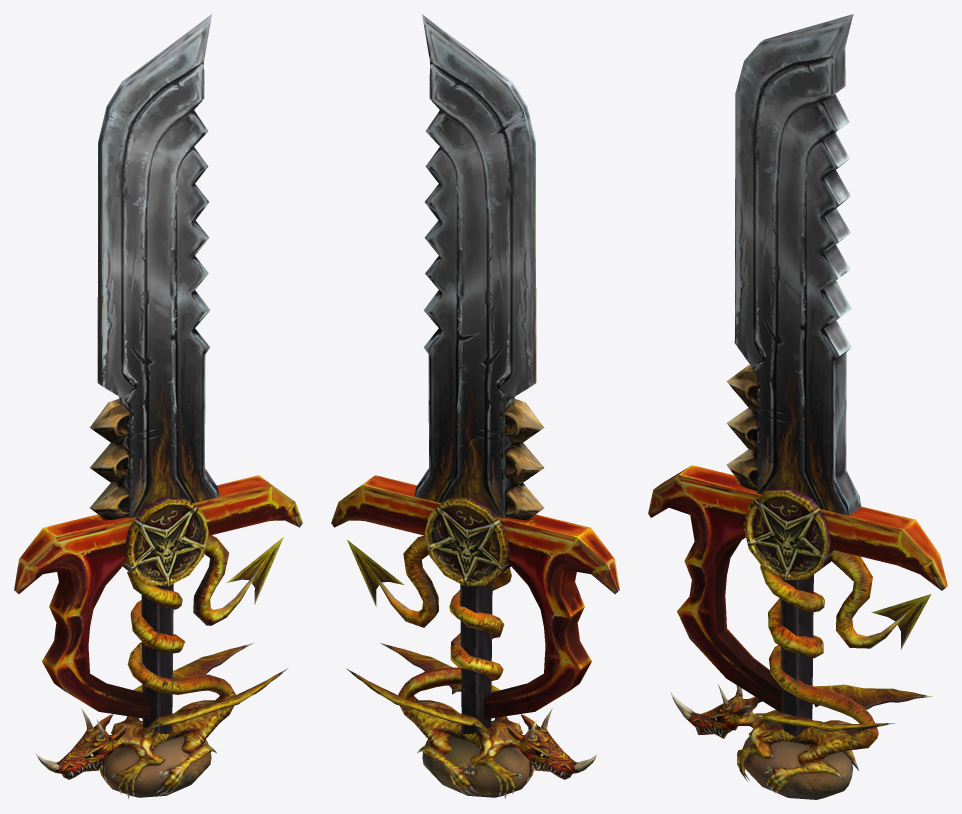
Rendered from DragonKnife.FBX.
3 renders of one model, left to right at view 1: azimuth 30°, elevation 25°; view 2: azimuth 150°, elevation 25°; view 3: azimuth 330°, elevation 25°, orthographic. The views are drawn at different scales.
Visible parts, largest first — view 1: KnifeUVd; view 2: KnifeUVd; view 3: KnifeUVd.
Boxes of the visible parts, <box> form: KnifeUVd: <box>14,14,302,798</box>; KnifeUVd: <box>331,14,619,798</box>; KnifeUVd: <box>648,14,947,799</box>.
Bounding box in the file's own units: 950 × 2428 × 288.
